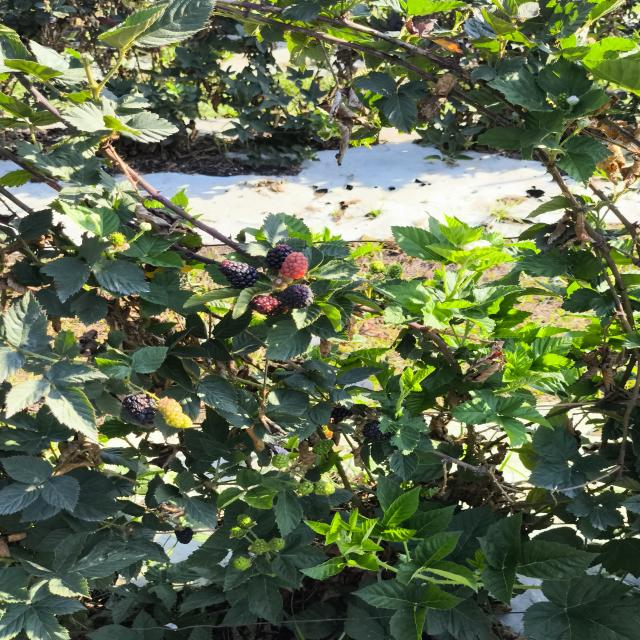maduro: (218, 260, 259, 289), (123, 393, 155, 422), (280, 284, 313, 309), (266, 244, 293, 271)
marron: (250, 295, 288, 316)
naranja: (280, 252, 308, 279)
verde: (156, 397, 192, 429), (312, 439, 333, 455), (314, 480, 335, 495), (250, 538, 268, 555), (297, 480, 314, 495), (271, 454, 289, 468), (237, 514, 255, 528), (269, 537, 285, 551), (234, 557, 251, 570), (230, 527, 244, 537)
